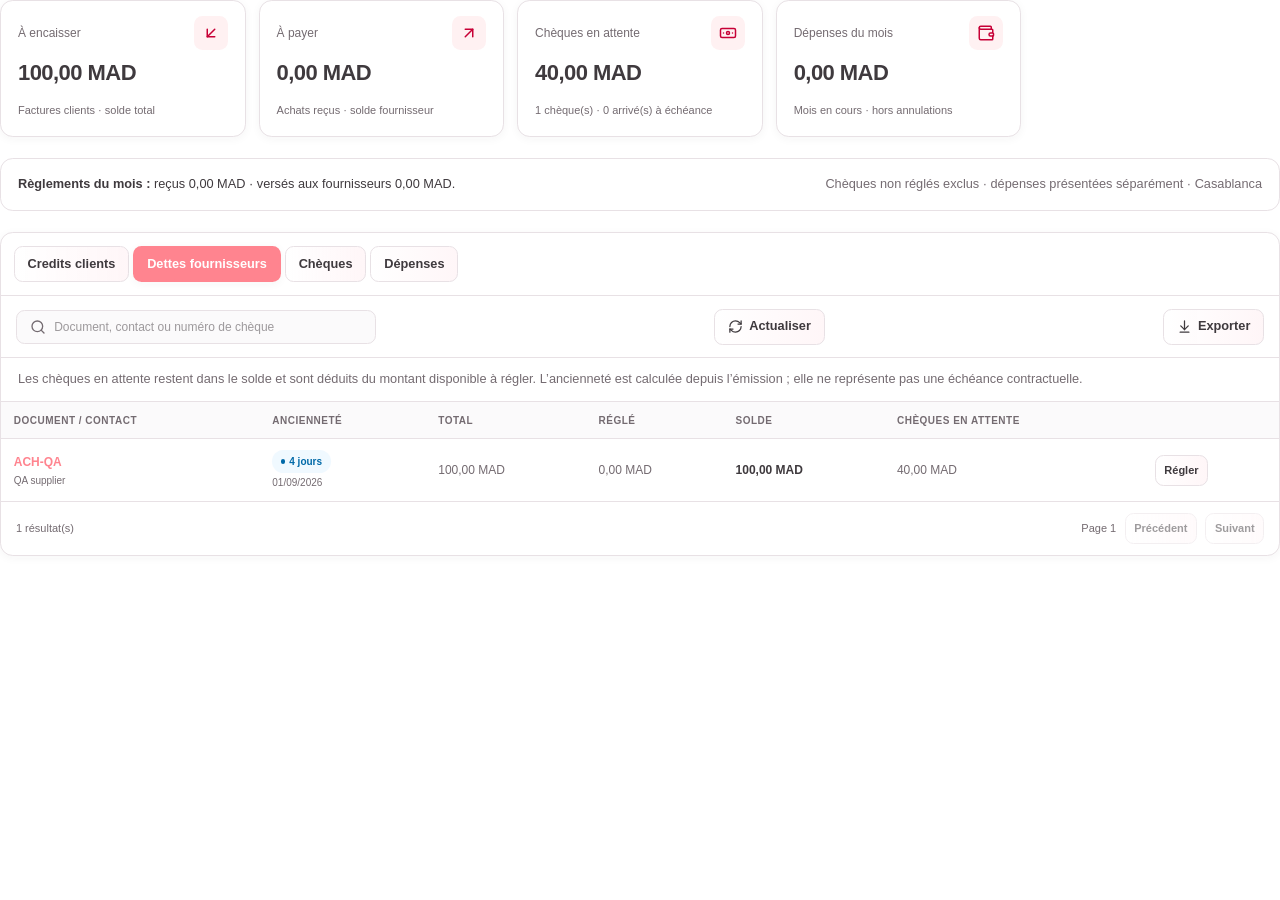
Test: finance workflows › opens the supplier settlement form when randomUUID is unavailable in the WebView
Click the button "Régler" at (1181, 470), box 1155,454 -> 1208,486
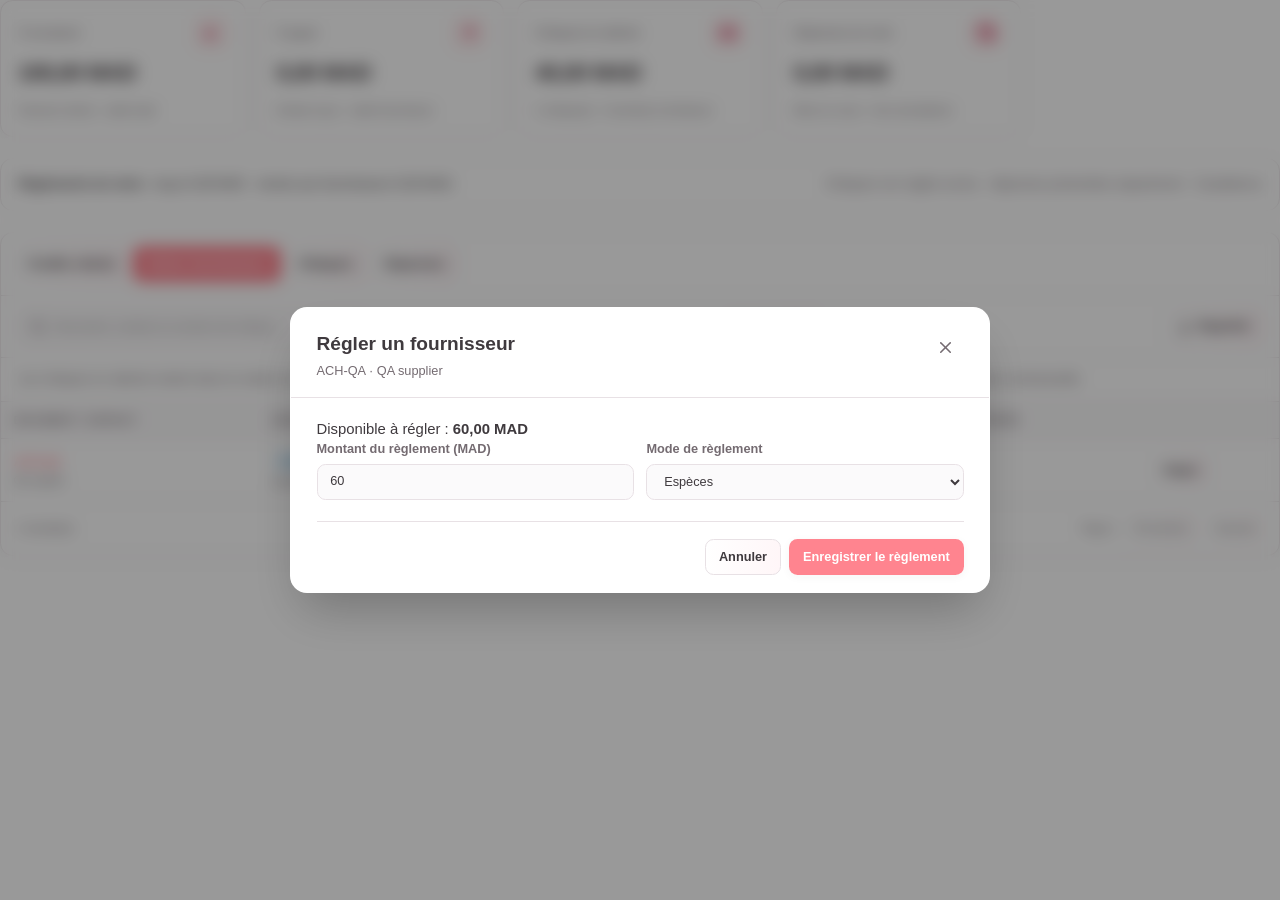
Expected: the dialog "Régler un fournisseur" is shown, 290,307 -> 990,593
Expected: the text "ACH-QA · QA supplier" is shown, 316,363 -> 443,378
